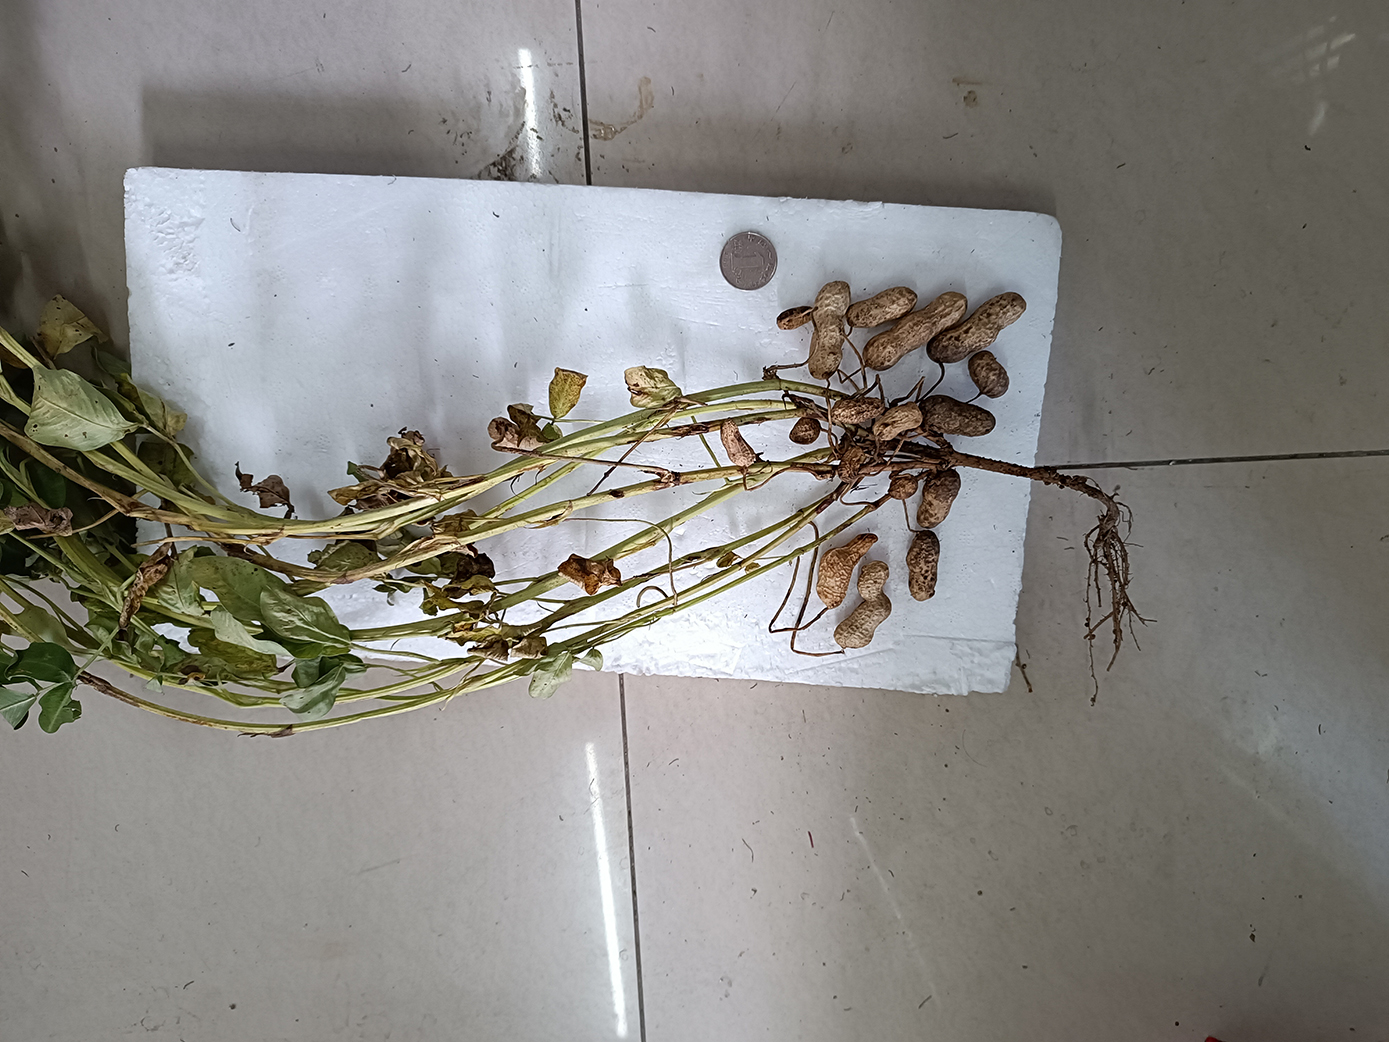h: (863, 292, 966, 373), (927, 293, 1027, 364), (834, 561, 893, 651), (815, 534, 883, 609), (807, 281, 844, 379), (843, 287, 917, 329), (916, 468, 960, 529), (716, 420, 762, 476), (907, 531, 940, 602), (873, 405, 924, 443), (831, 400, 884, 427), (775, 305, 817, 331), (891, 474, 916, 498)
l: (921, 396, 996, 438), (971, 351, 1008, 400), (790, 417, 820, 444)
